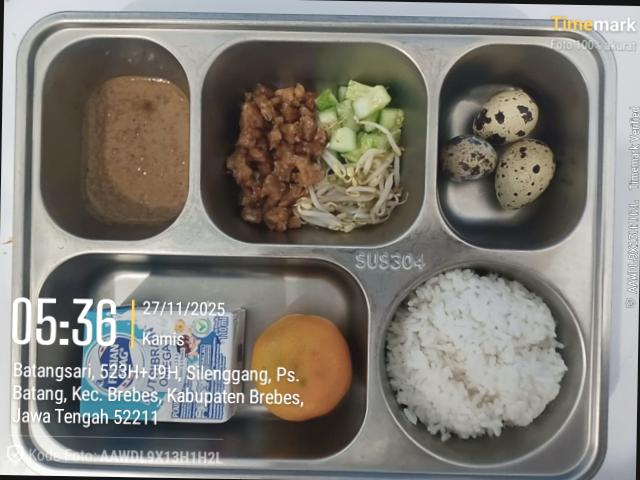buah: (251, 314, 351, 420)
nasi: (386, 269, 567, 439)
sayur: (293, 79, 404, 232)
susu: (80, 300, 245, 421)
telur: (439, 90, 555, 209)
tempe: (227, 83, 326, 230)
